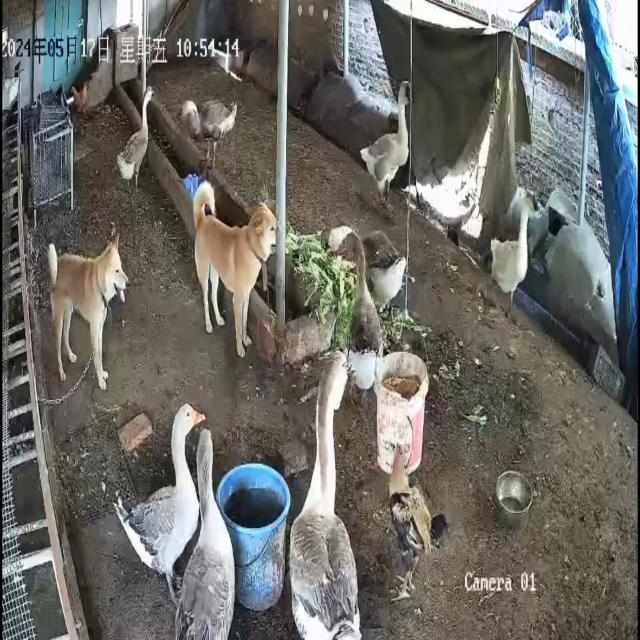dog: (193, 180, 278, 359), (47, 225, 130, 392)
